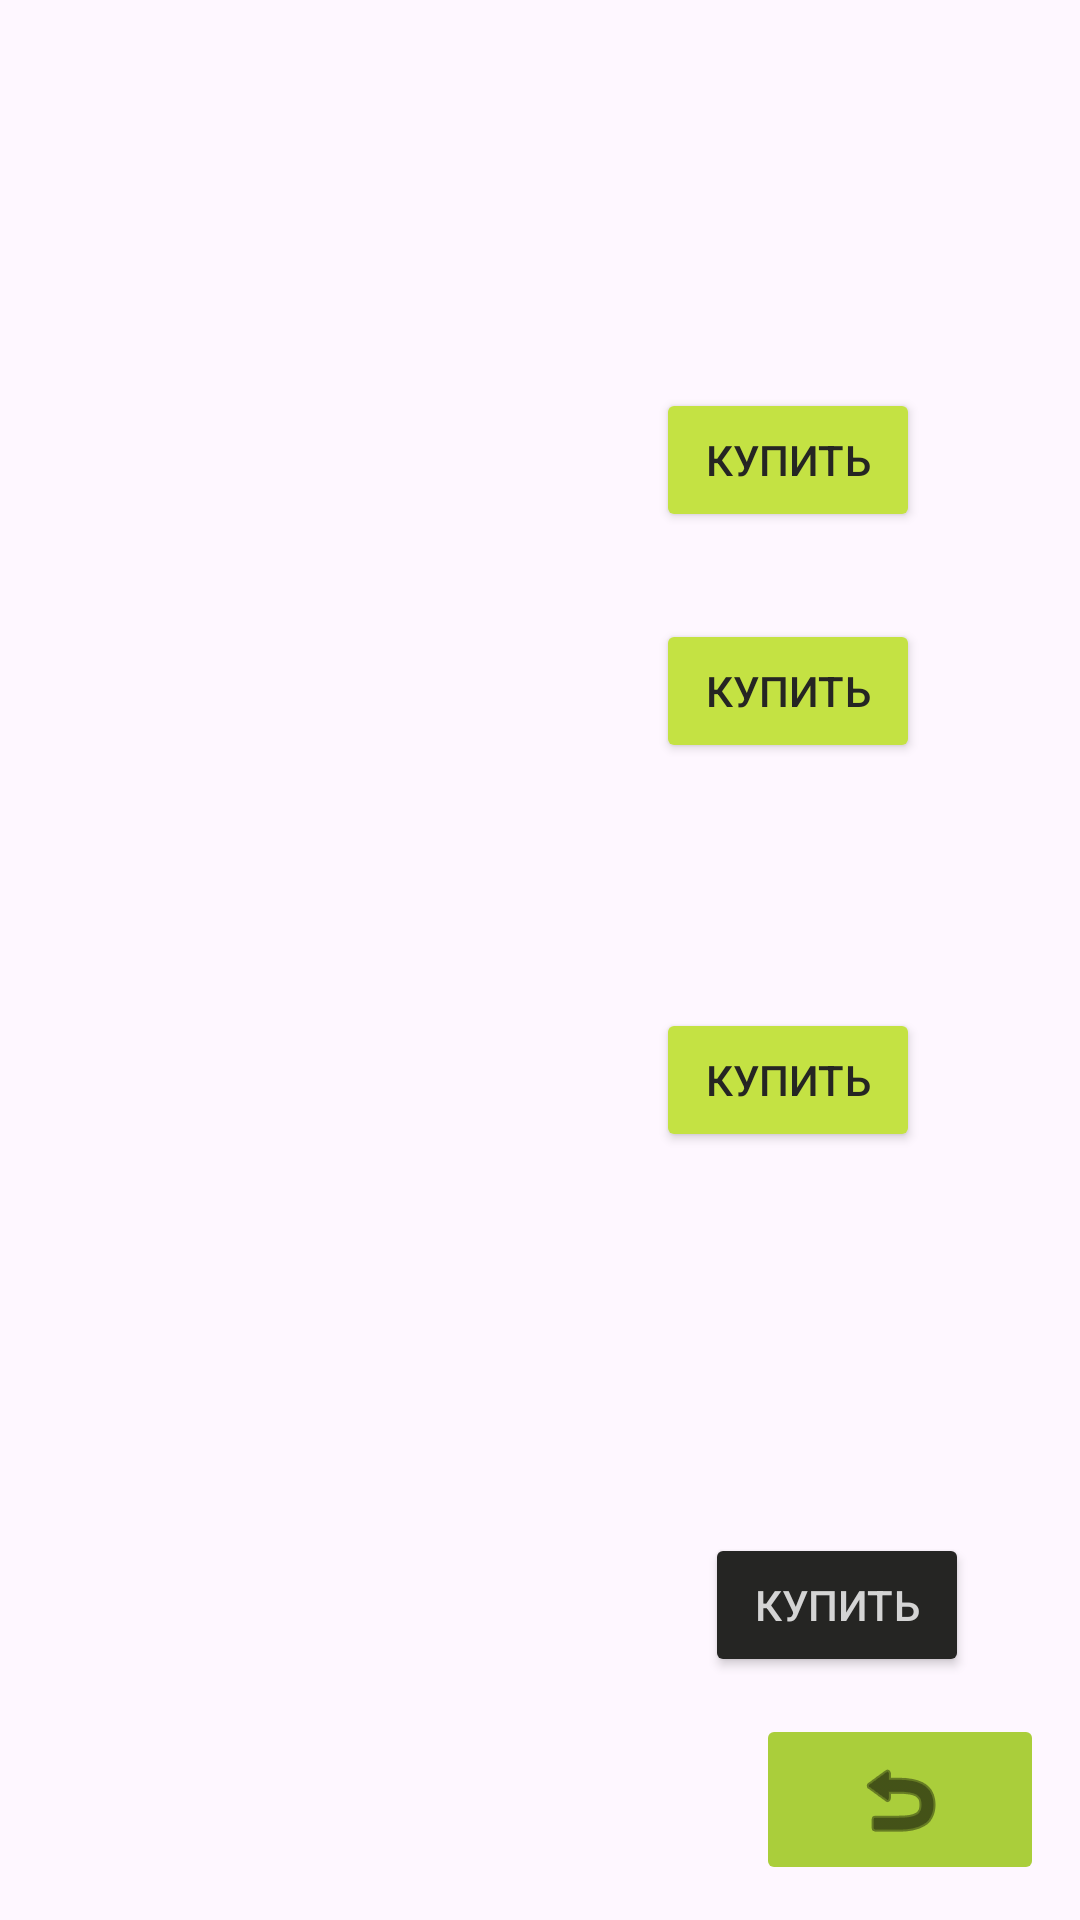

Icon bounding boxes for this 1080 × 1920 phone screenshot, format Rect(x1, y1, x2, y2):
revert: Rect(768, 1732, 1032, 1867)
